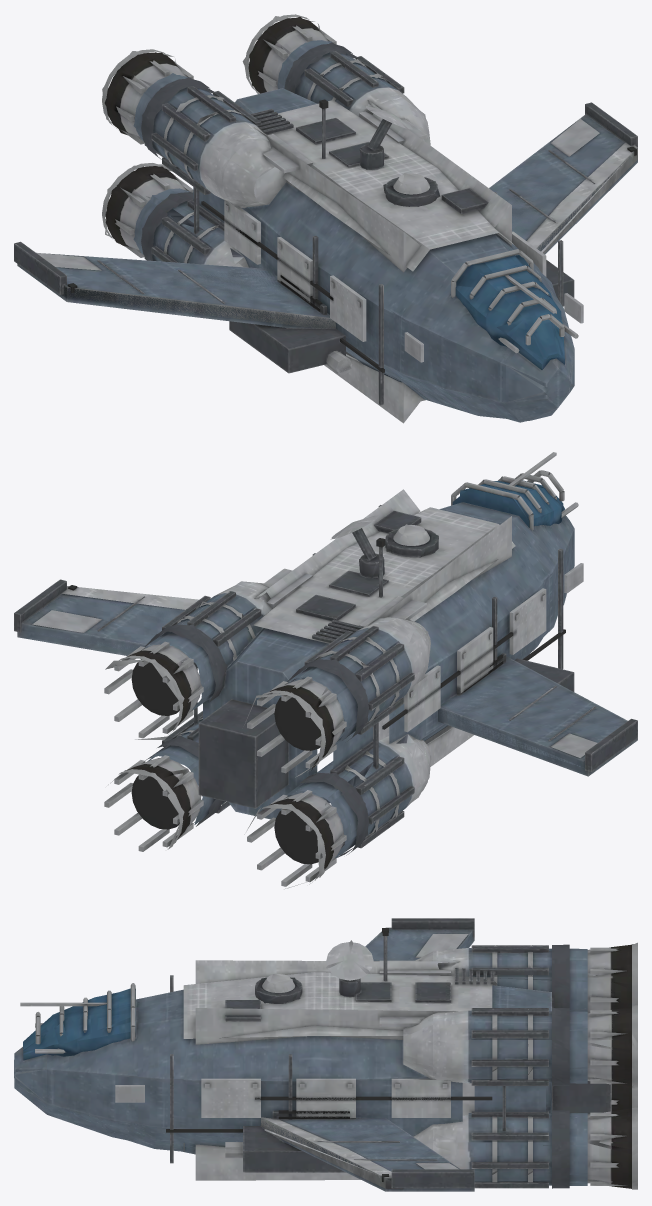
File: sd_ship_kasif.glb
3 views of the same model, one above another, from view 1: azimuth 30°, elevation 25°; view 2: azimuth 150°, elevation 25°; view 3: azimuth 270°, elevation 25° (orthographic). The views are drawn at different scales.
Parts seen in each view (by area): view 1: LOD0_body, LOD1_body; view 2: LOD0_body, LOD1_body; view 3: LOD0_body, LOD1_body.
Part boxes in pixels (x1,y1,x2,y2): LOD0_body: [14, 14, 637, 423]; LOD1_body: [38, 16, 637, 422]; LOD0_body: [14, 452, 637, 886]; LOD1_body: [33, 470, 637, 889]; LOD0_body: [14, 918, 637, 1191]; LOD1_body: [14, 934, 637, 1191].
Bounding box in the file's own units: 0.9638 × 0.3805 × 1.
1 material, 1 textured.
